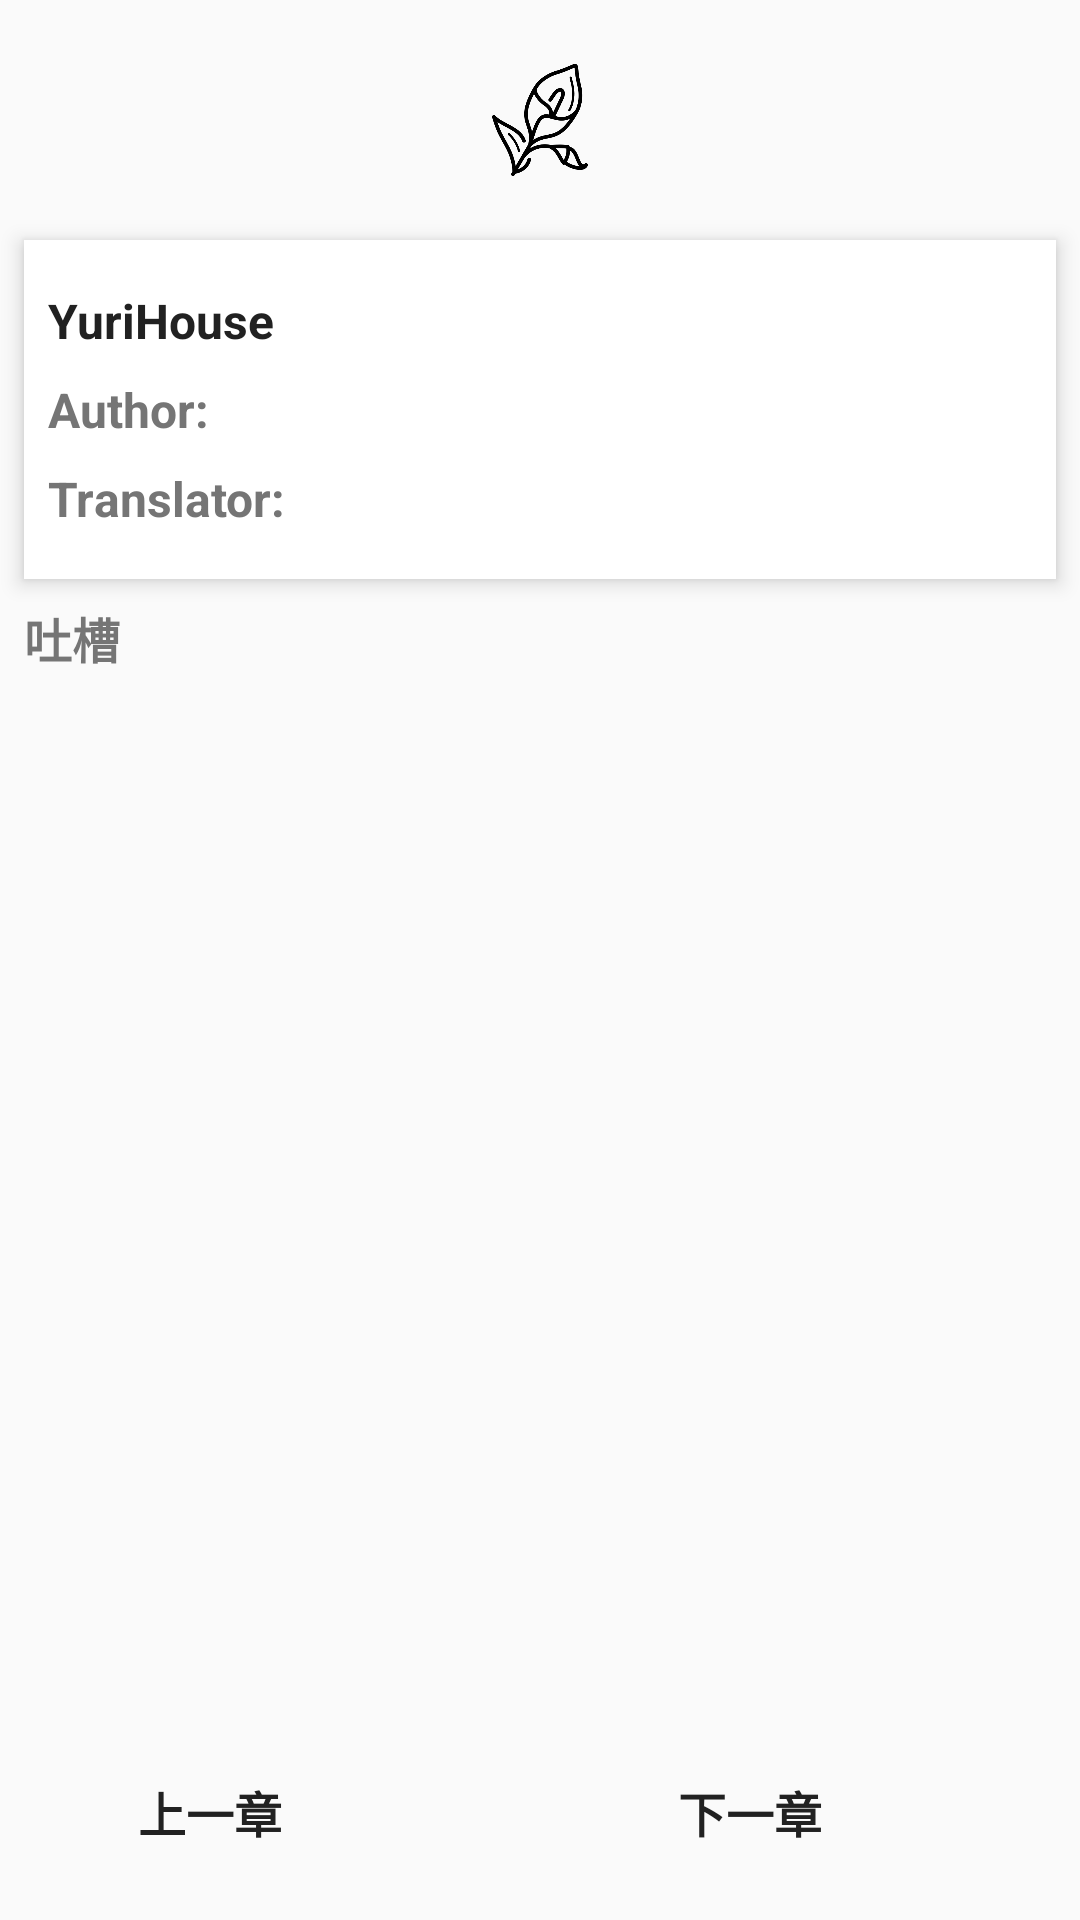

Named icons in this screenshot (1080×1920) and their bounding boxes, (x1, y1, x2, y2):
drawer lily: (492, 64, 588, 176)
